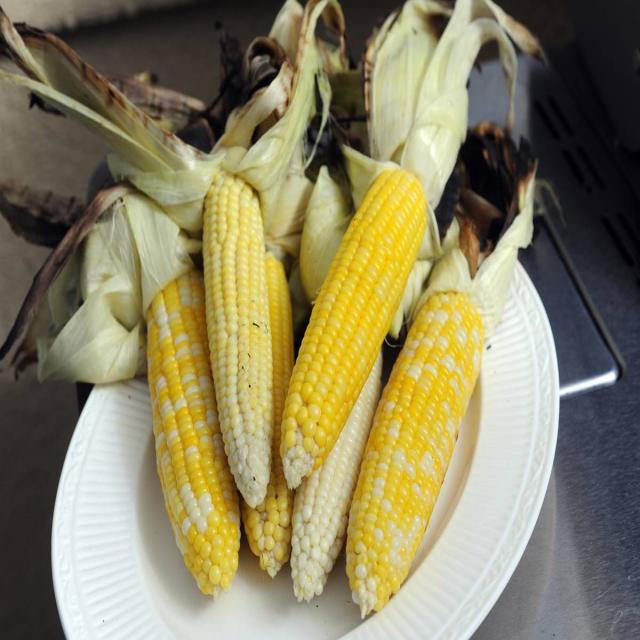corn: (330, 286, 506, 630), (275, 167, 444, 472), (132, 272, 245, 595), (195, 165, 296, 515)
